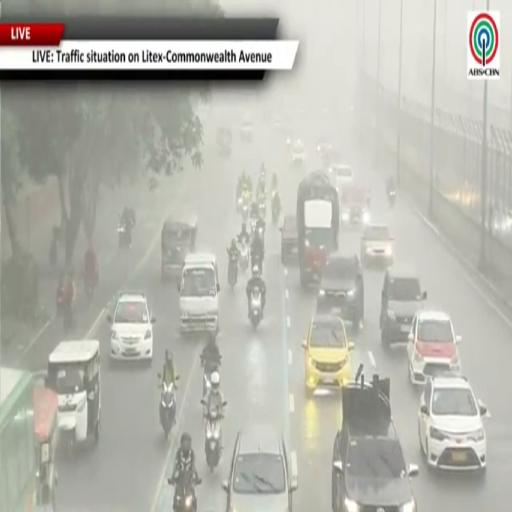bus: (0, 367, 37, 511)
car: (332, 365, 418, 511), (418, 374, 487, 471), (223, 425, 297, 511), (303, 314, 354, 395), (407, 310, 461, 385), (380, 265, 427, 346), (317, 251, 363, 331), (178, 253, 220, 334), (108, 292, 155, 361), (361, 224, 393, 266), (340, 184, 370, 227), (280, 215, 297, 264), (329, 164, 353, 194), (316, 137, 332, 160), (291, 139, 305, 164), (240, 115, 253, 141)
jeepney: (161, 215, 197, 279)
motorcycle: (168, 475, 201, 511), (205, 411, 221, 472), (159, 382, 176, 439), (201, 359, 221, 396), (250, 286, 262, 328), (228, 252, 238, 287), (118, 222, 131, 248), (63, 304, 74, 334), (239, 244, 249, 271), (272, 197, 280, 225), (252, 253, 262, 273), (85, 279, 94, 301), (259, 199, 266, 218), (250, 217, 257, 234), (388, 190, 395, 207), (242, 204, 249, 220), (257, 224, 264, 239), (237, 196, 242, 212)
truck: (296, 171, 339, 289)
